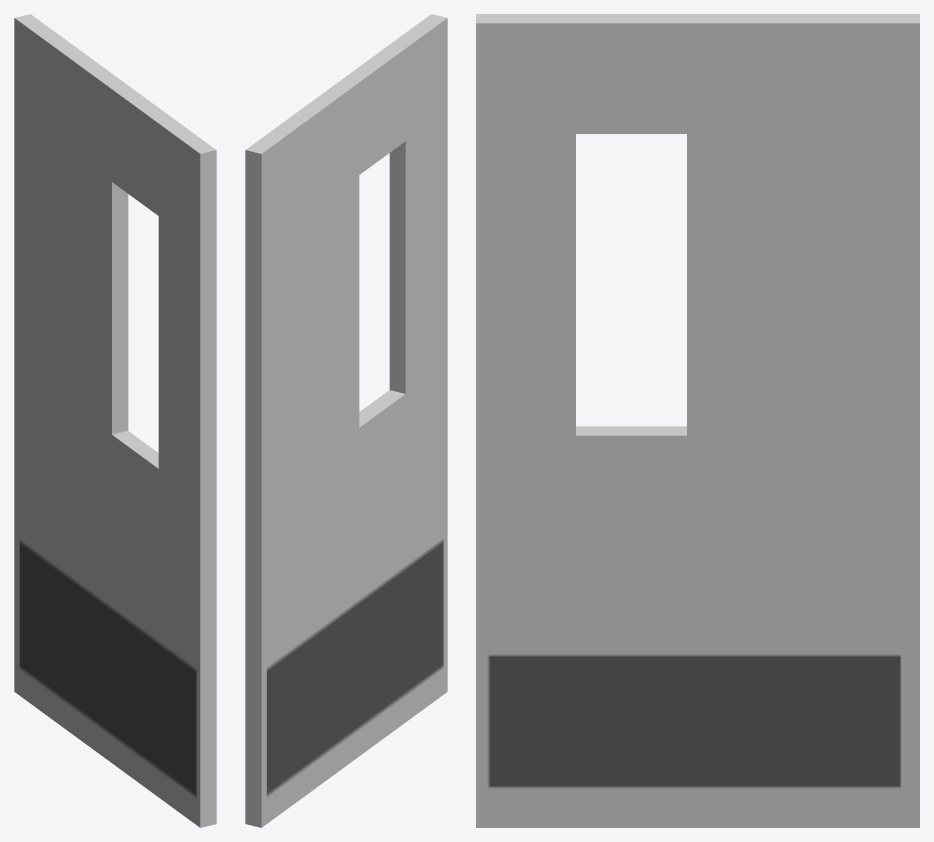
File: DoorSean.fbx
3 views of the same model, side by side, from view 1: azimuth 30°, elevation 25°; view 2: azimuth 150°, elevation 25°; view 3: azimuth 270°, elevation 25° (orthographic). The views are drawn at different scales.
Visible parts, largest first — view 1: DoorSean; view 2: DoorSean; view 3: DoorSean.
Part boxes in pixels (x1,y1,x2,y2): DoorSean: (14, 14, 216, 827); DoorSean: (245, 14, 447, 827); DoorSean: (476, 14, 919, 827).
Bounding box in the file's own units: 5 × 200 × 100.
